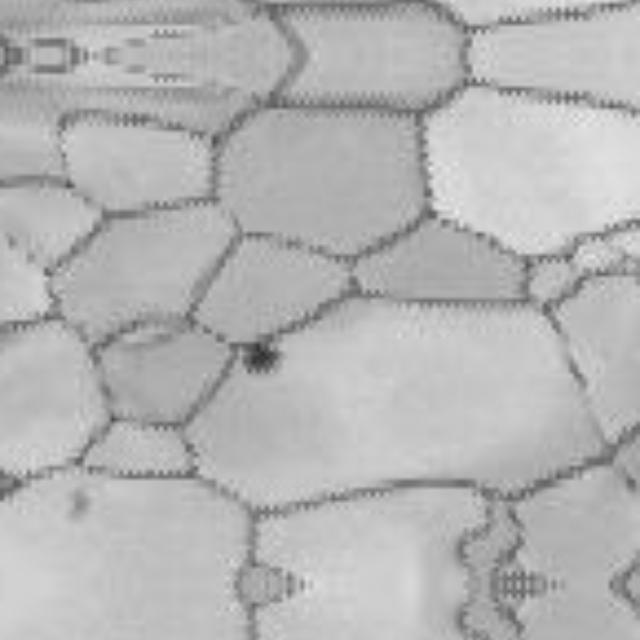good_void: (236, 340, 287, 375)
